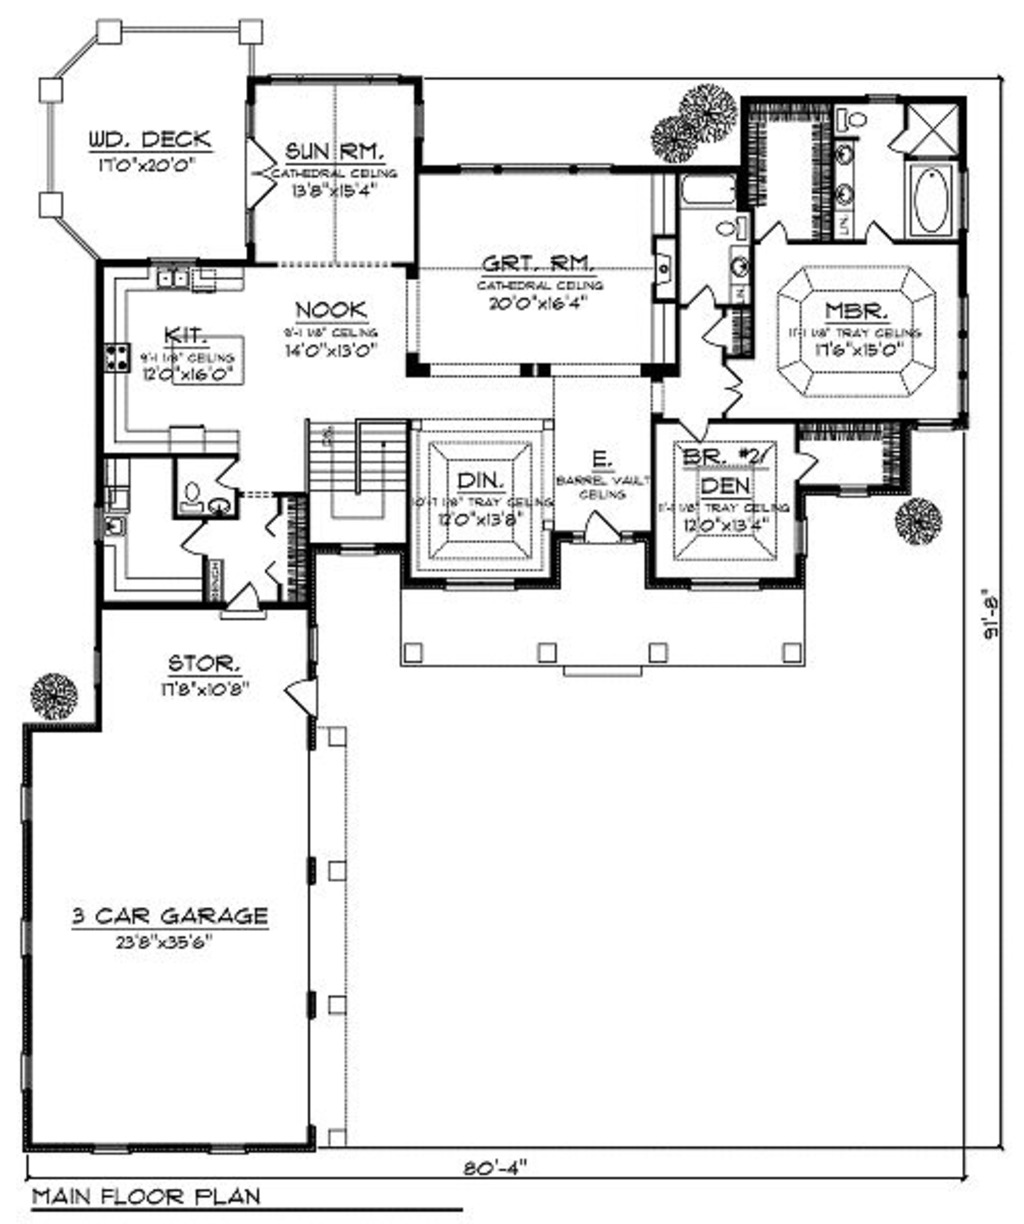door: (240, 129, 282, 215), (716, 355, 749, 420), (578, 504, 627, 547), (169, 517, 210, 559), (223, 582, 262, 622), (674, 280, 720, 314), (756, 215, 799, 250), (793, 435, 820, 488)
large_sink: (831, 100, 874, 141), (708, 215, 749, 246), (174, 478, 207, 512)
stairs: (303, 414, 412, 562)
tub: (899, 155, 958, 238), (677, 164, 741, 213)
twin_sink: (153, 263, 202, 299)
windows: (451, 158, 616, 182), (678, 570, 768, 597), (436, 572, 518, 601), (10, 1049, 40, 1093), (16, 908, 35, 966), (18, 777, 37, 830)
